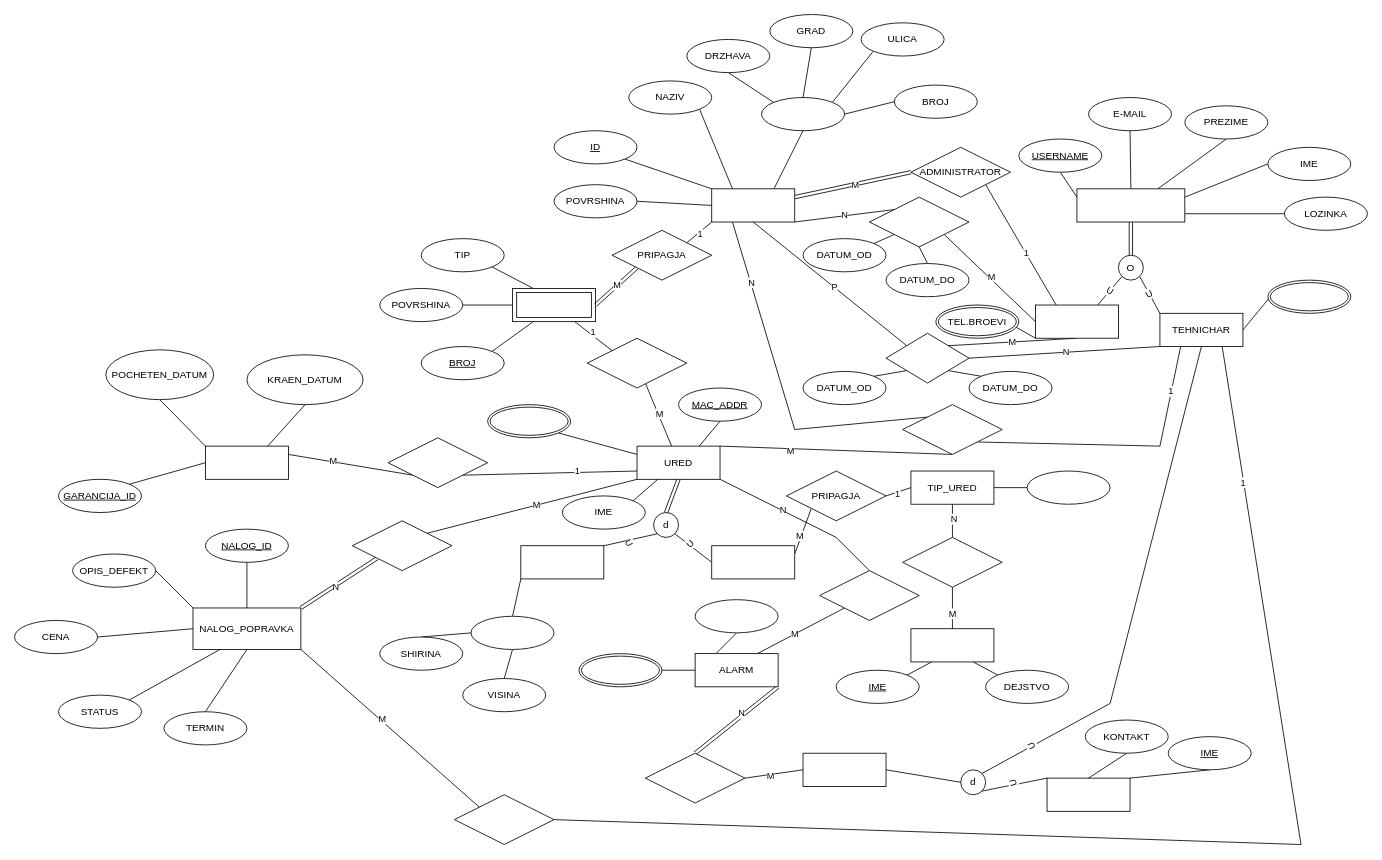
The diagram is 1382 pixels wide and 860 high, and some of its shapes have lost their labels. The centre of each missing label's shape, as x and y in pixels:
"ADRESA" goes at point 803,114.
"ALARM_ID" goes at point 736,616.
"CHLENUVA" goes at point 919,221.
"DOM" goes at point 753,205.
"GARANCIJA" goes at point 246,462.
"GENERIRA" goes at point 869,595.
"IME_TIP" goes at point 1068,487.
"ITNA_SLUZHBA" goes at point 1088,794.
"KAMERA" goes at point 562,562.
"KANALI" goes at point 620,670.
"KLIENT" goes at point 1076,321.
"KORISNIK" goes at point 1130,205.
"NAREDBA" goes at point 952,645.
"PAMETNI_UREDI" goes at point 753,562.
"PODRZHUVA" goes at point 952,562.
"PRIMA_ALARM" goes at point 694,777.
"PRIMAC" goes at point 844,769.
"PROSTORIJA" goes at point 554,305.
"PROTOKOLI" goes at point 529,421.
"Relationship" goes at point 402,545.
"REZOLUCIJA" goes at point 512,632.
"SERTIFIKATI" goes at point 1309,296.
"SODRZHI" goes at point 636,362.
"SRABOTEN" goes at point 504,819.
